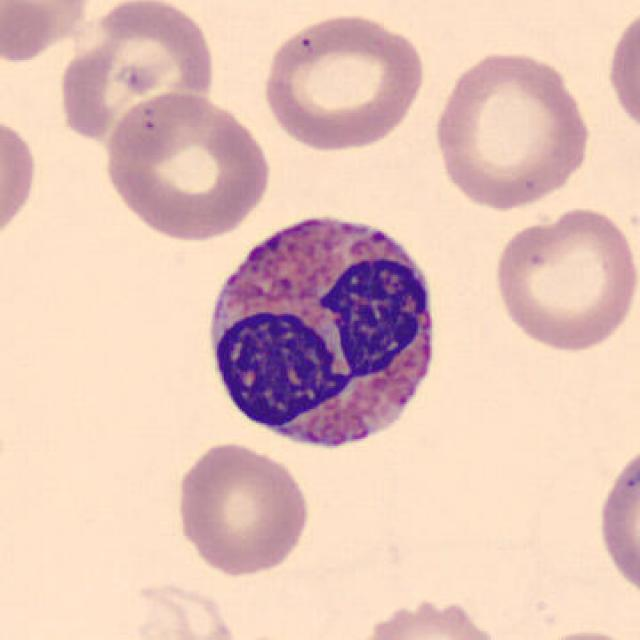Eosinophil: (196, 198, 454, 466)
RBC: (428, 46, 596, 213), (100, 88, 274, 243), (55, 0, 221, 155), (256, 7, 430, 153), (487, 201, 638, 354), (171, 439, 313, 578), (340, 592, 514, 640), (592, 433, 638, 604), (121, 578, 243, 640), (0, 0, 98, 65), (0, 107, 41, 254), (602, 1, 640, 141), (519, 626, 638, 640)
